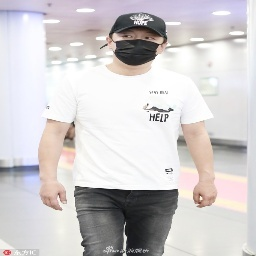correctlyWear: (106, 29, 167, 66)
